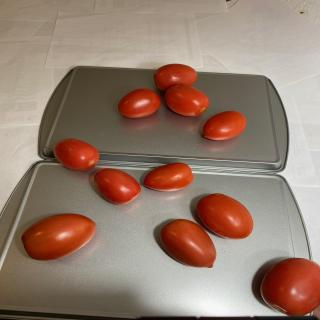Tomato: (21, 213, 96, 261), (260, 258, 320, 316), (160, 219, 217, 268), (196, 193, 254, 239), (93, 168, 141, 205), (53, 138, 100, 171), (143, 162, 194, 192), (164, 85, 210, 116), (203, 110, 246, 140), (118, 88, 160, 118), (153, 63, 198, 91)
